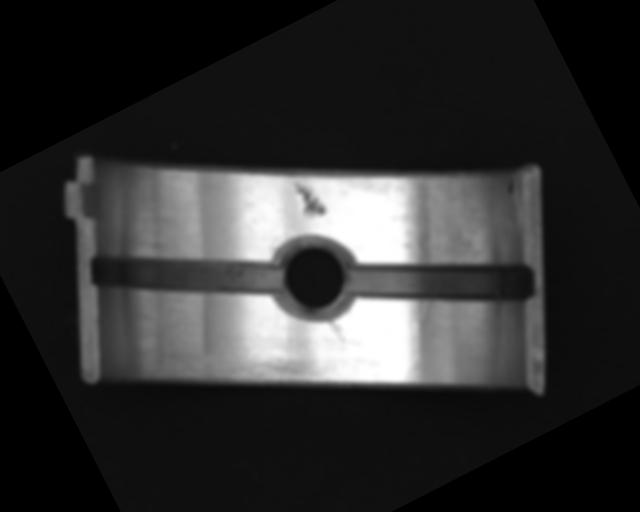blot: (501, 174, 522, 196)
bruise: (291, 175, 329, 222)
gap: (86, 186, 289, 363), (343, 200, 539, 367)
hole: (258, 222, 369, 332)
nick: (380, 317, 441, 385), (327, 316, 348, 345)
scratch: (149, 298, 324, 446)
